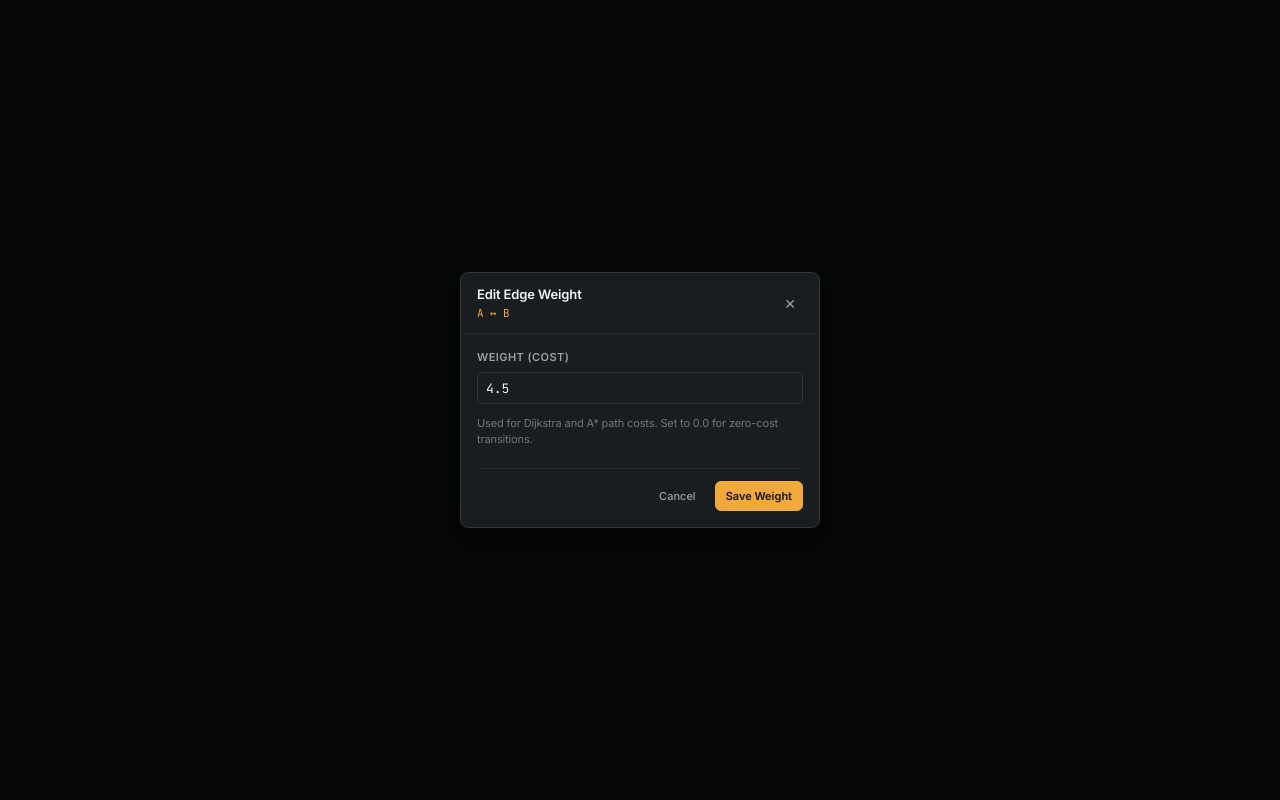
Test: EdgeWeightModal Component › validates negative weight and displays inline error without alert
This screenshot has width=1280, height=800.
Replace the text in the number field labelled "Weight (Cost)" with "-2". click: (640, 388)
box: [477,372,803,404]
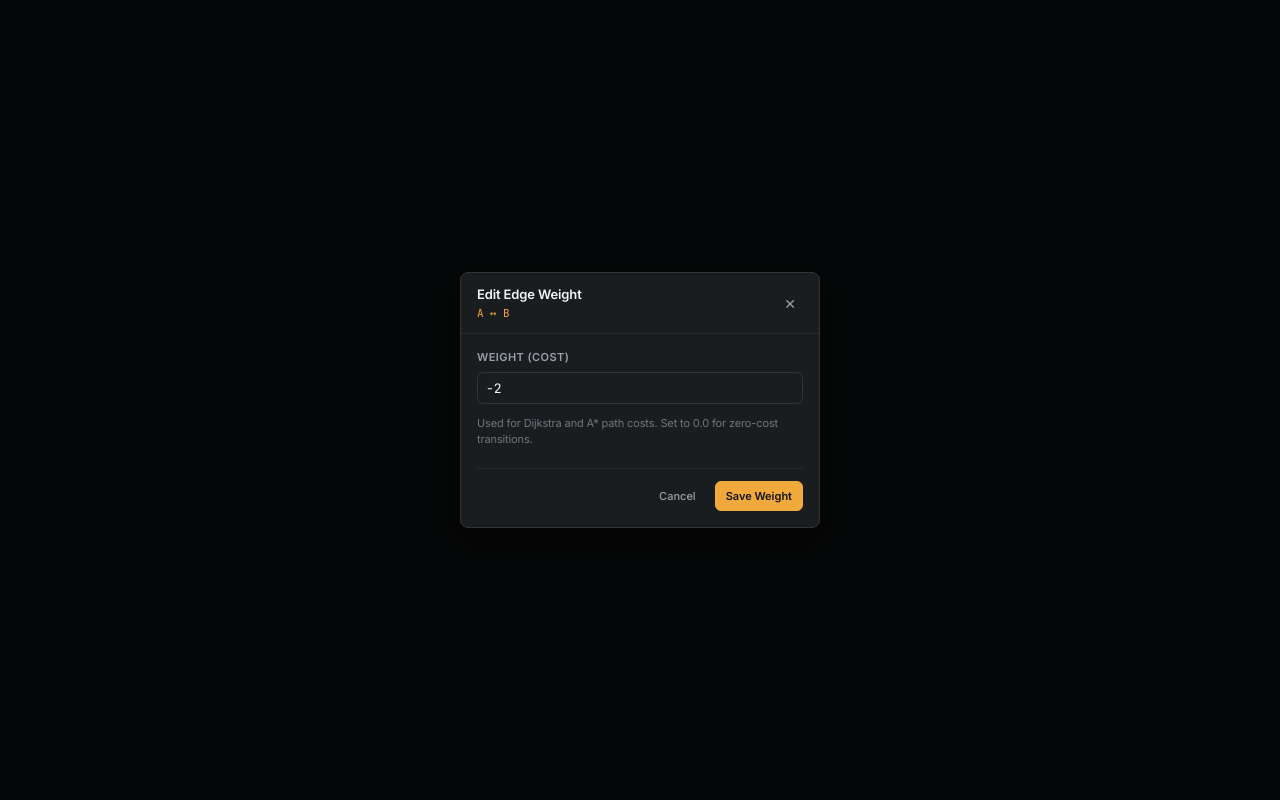
Click the button "Save Weight". click: (759, 496)
box: [715,481,803,511]
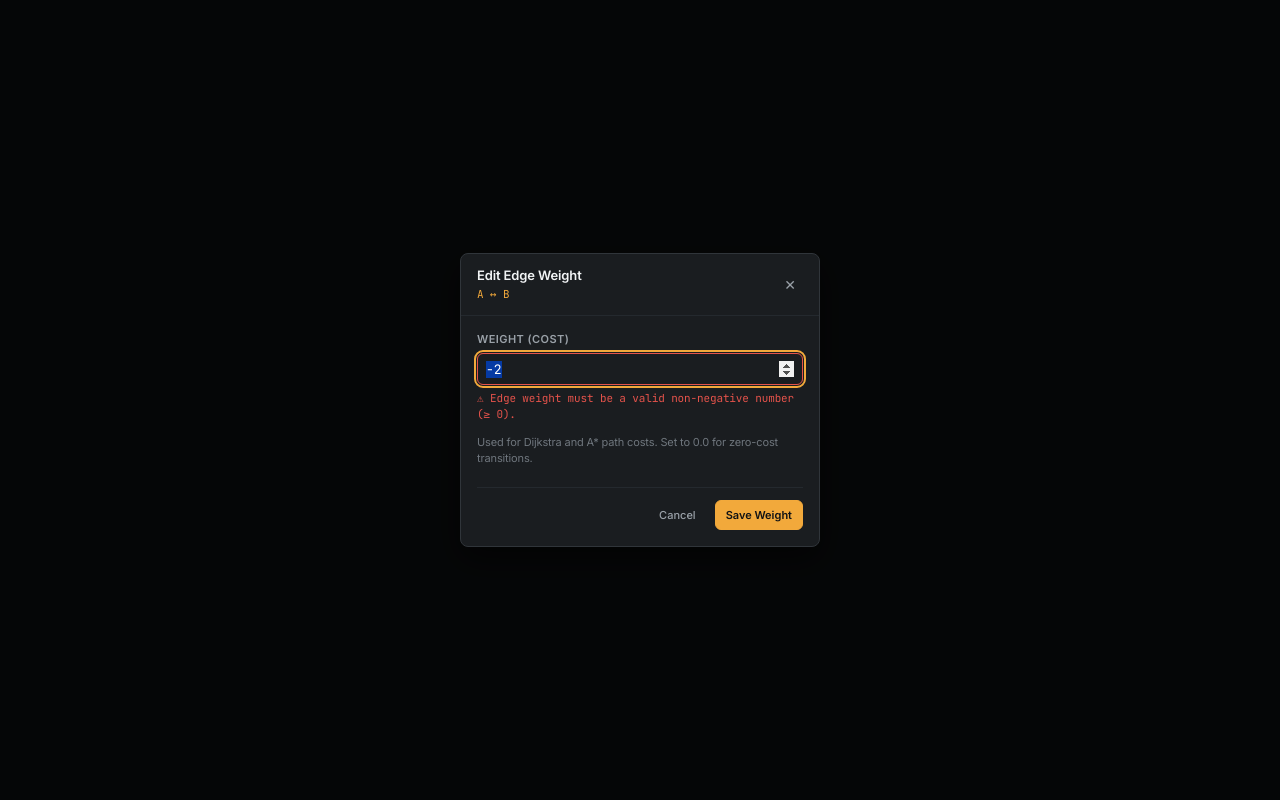
Check: the text "⚠ Edge weight must be a valid non-negative number (≥ 0)." is shown, box [477,392,803,423]
